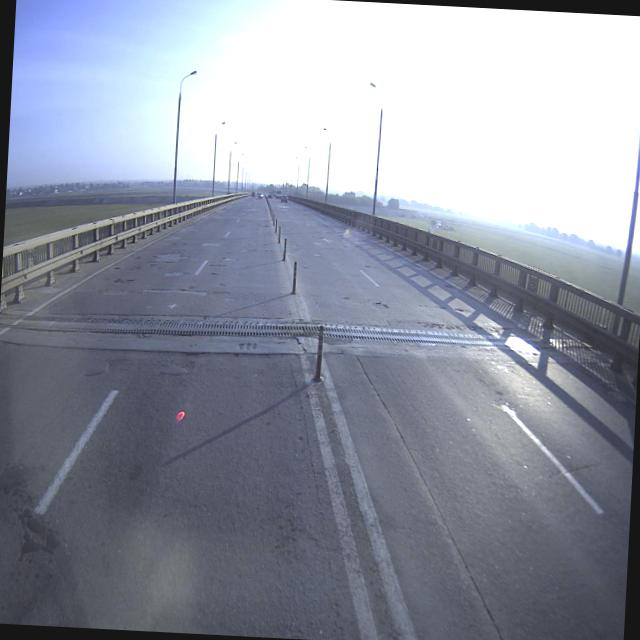road: (0, 327, 635, 640), (38, 195, 530, 333)
